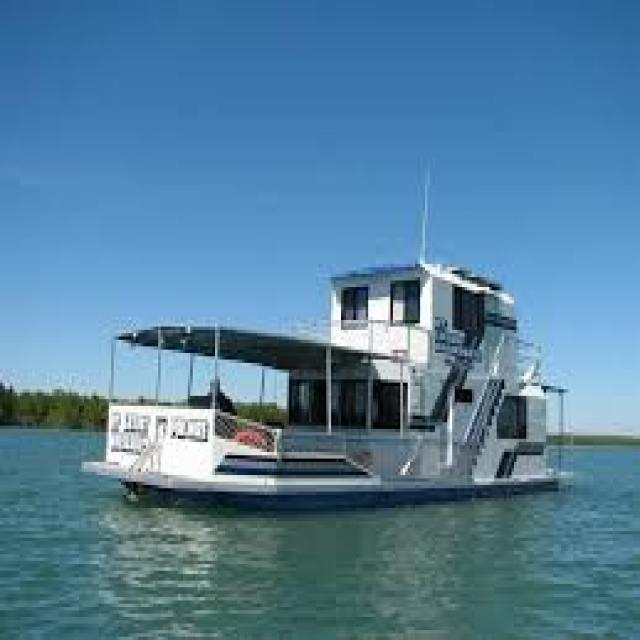houseboat: (92, 237, 580, 514)
